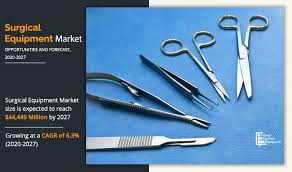fine forceps: (135, 51, 220, 113)
fine needle holder: (86, 69, 212, 131)
fine scissors: (157, 28, 231, 104)
mayo scissors: (216, 12, 271, 103)
scalpel: (84, 134, 218, 149)
